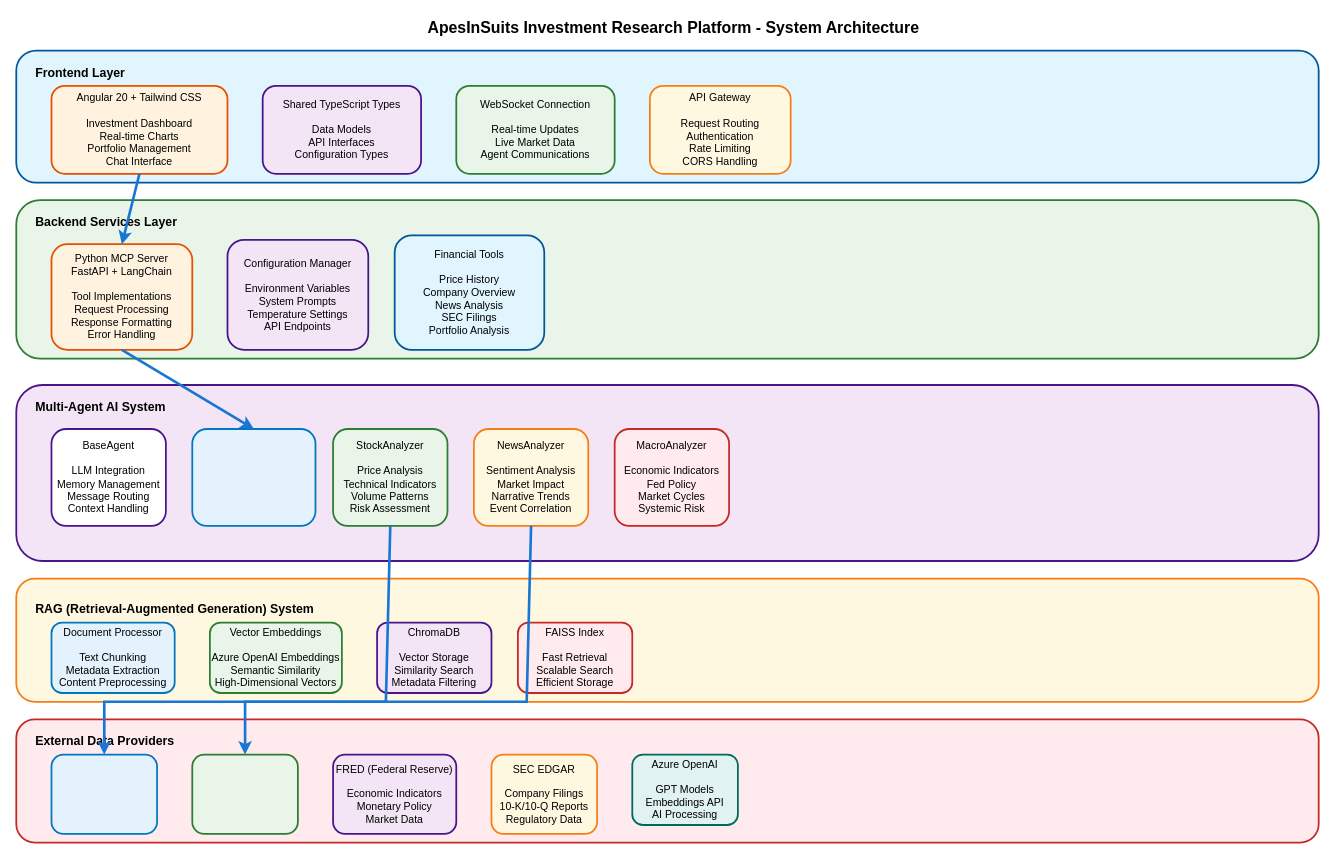
Some shapes in this 1334 by 858 pixel diagram are drawn without their labels. Here are the shapes that lost their labels. From the top down, the centre of each, then its label:
At (253,477): "PlannerAgent Research Planning Task Coordination Team Management Strategy Design".
At (104,793): "yFinance Stock Prices Market Data Historical Charts".
At (244,793): "NewsAPI Financial News Real-time Updates Source Filtering".
